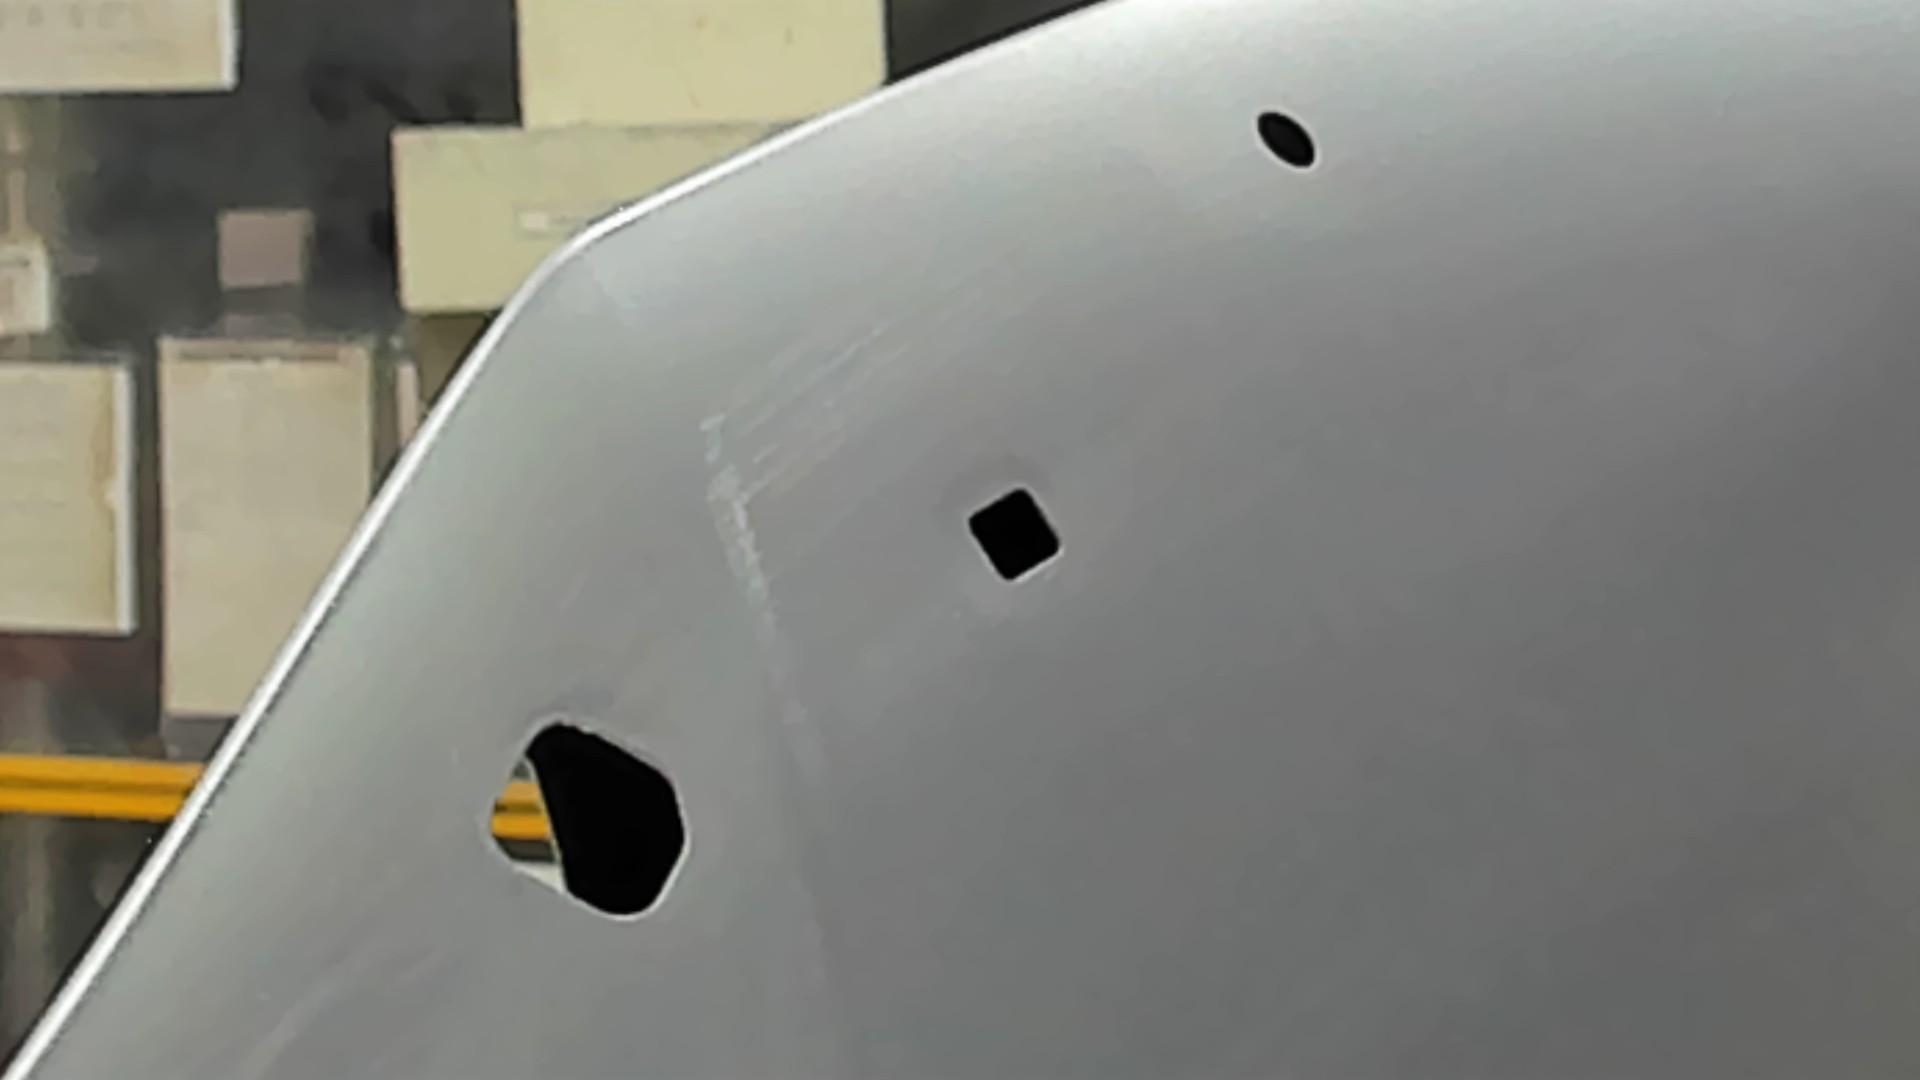chico: (1251, 105, 1321, 173)
grande: (477, 715, 696, 926)
mediano: (964, 483, 1065, 587)
